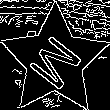M_SE: (22, 27, 87, 94)
